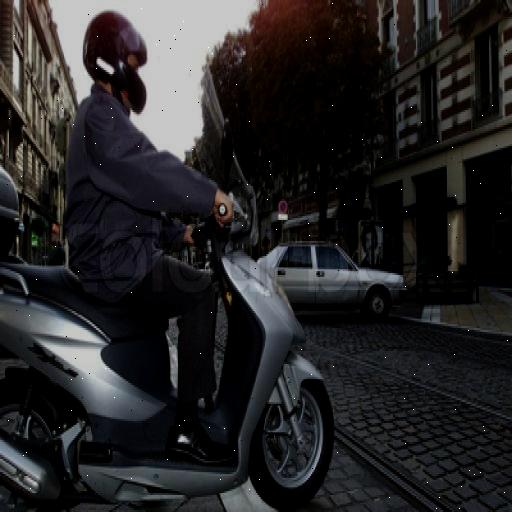helmet: (52, 2, 312, 510)
